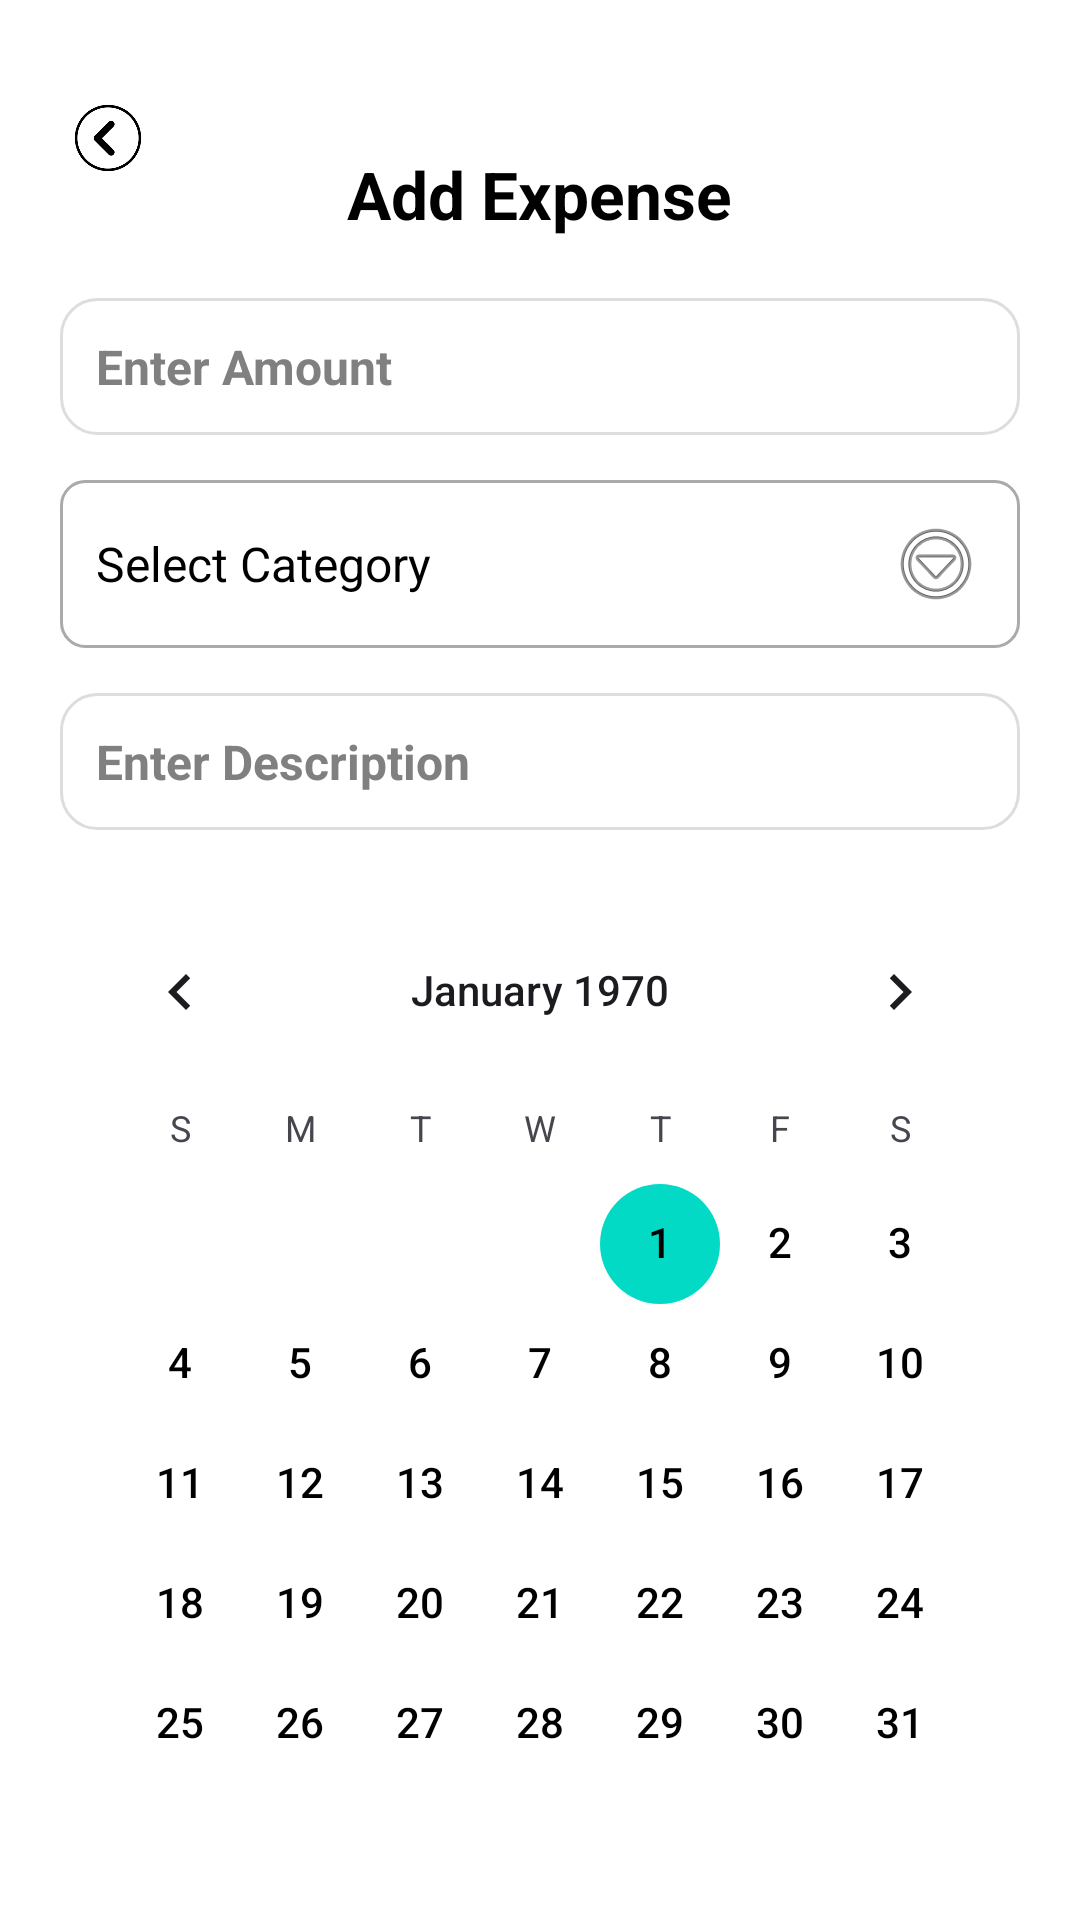

Where to tap for icons on this 1080px×1920px app screen, as point (x, y):
Back: point (108, 138)
